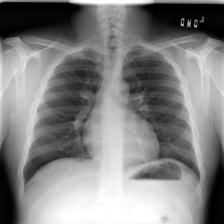normal: (22, 41, 204, 196)
